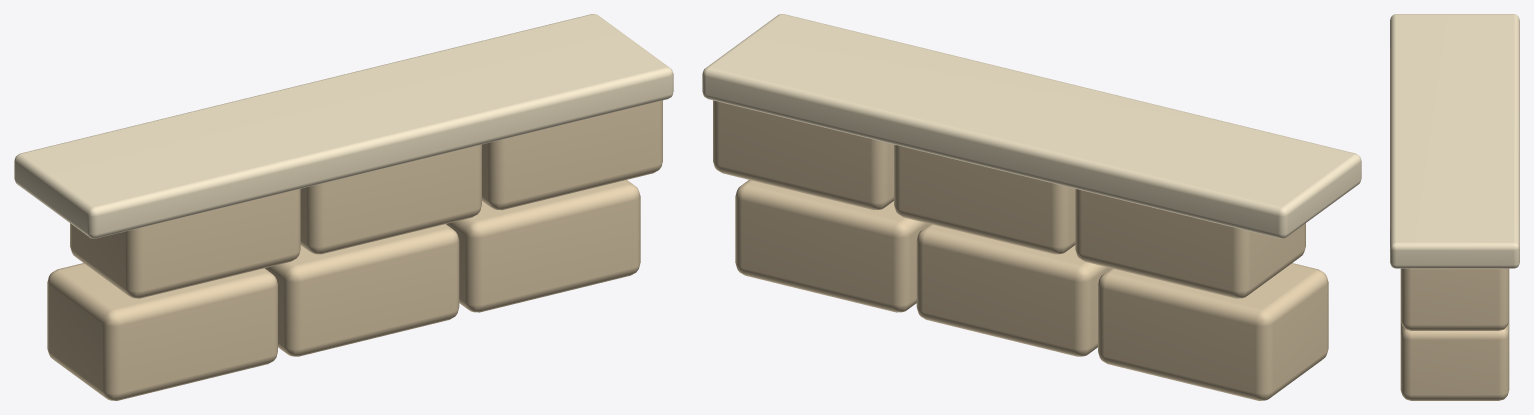
Rendered from wall.glb.
The picture shows the model from 3 angles, left to right: view 1: azimuth 30°, elevation 25°; view 2: azimuth 150°, elevation 25°; view 3: azimuth 270°, elevation 25°; orthographic projection. The views are drawn at different scales.
Parts seen in each view (by area): view 1: Wall_coping, Wall_limestone_block, Wall_limestone_block.001, Wall_limestone_block.002, Wall_limestone_block.003, Wall_limestone_block.004, Wall_limestone_block.005; view 2: Wall_coping, Wall_limestone_block, Wall_limestone_block.001, Wall_limestone_block.002, Wall_limestone_block.003, Wall_limestone_block.004, Wall_limestone_block.005; view 3: Wall_coping, Wall_limestone_block.002, Wall_limestone_block.005.
Boxes of the visible parts, left/top/right/bottom form: Wall_coping: left=14, top=14, right=673, bottom=238; Wall_limestone_block: left=47, top=263, right=277, bottom=400; Wall_limestone_block.001: left=265, top=224, right=459, bottom=356; Wall_limestone_block.002: left=446, top=180, right=640, bottom=312; Wall_limestone_block.003: left=70, top=189, right=300, bottom=298; Wall_limestone_block.004: left=300, top=144, right=481, bottom=254; Wall_limestone_block.005: left=482, top=100, right=662, bottom=210; Wall_coping: left=702, top=14, right=1361, bottom=238; Wall_limestone_block: left=1098, top=263, right=1328, bottom=400; Wall_limestone_block.001: left=916, top=224, right=1110, bottom=356; Wall_limestone_block.002: left=735, top=180, right=929, bottom=312; Wall_limestone_block.003: left=1075, top=189, right=1305, bottom=298; Wall_limestone_block.004: left=894, top=144, right=1075, bottom=254; Wall_limestone_block.005: left=713, top=100, right=893, bottom=210; Wall_coping: left=1390, top=14, right=1519, bottom=268; Wall_limestone_block.002: left=1400, top=321, right=1509, bottom=400; Wall_limestone_block.005: left=1400, top=268, right=1509, bottom=330.
Size of the model in its own units: 3.1 by 1.05 by 0.73.
